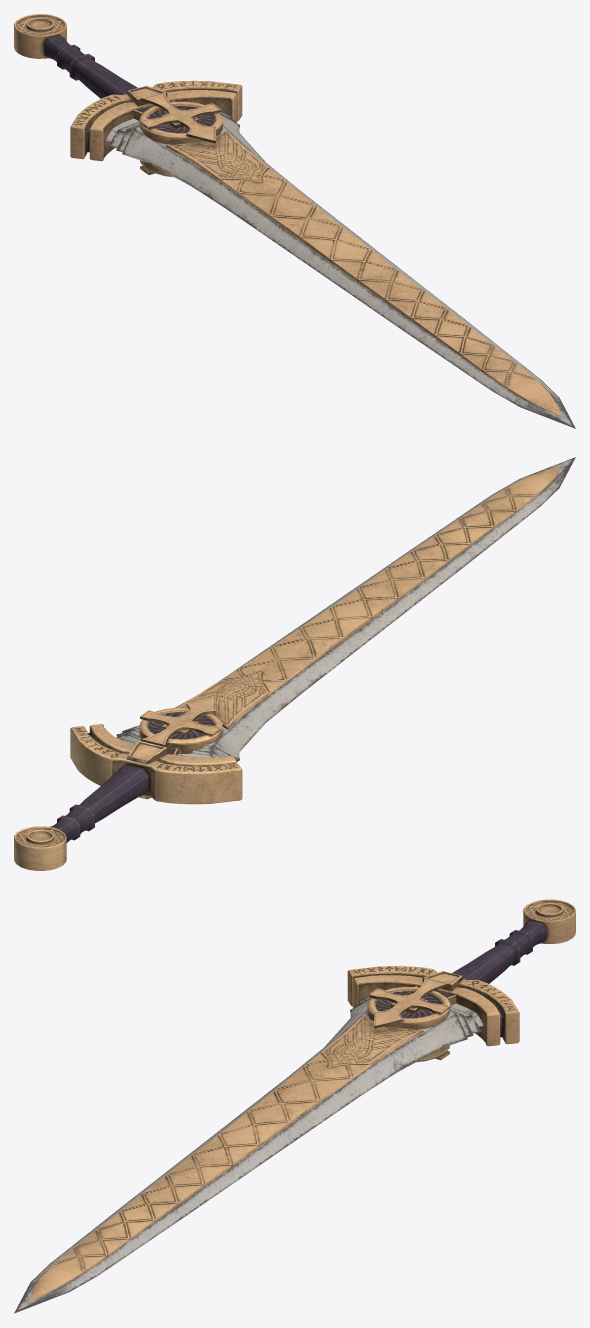
Rendered from hollowfang.glb.
3 renders of one model, top to bottom at view 1: azimuth 30°, elevation 25°; view 2: azimuth 150°, elevation 25°; view 3: azimuth 330°, elevation 25°, orthographic.
Visible parts, largest first — view 1: Plate_low, Sword_low, Handle02_low, Handle01_low, CylinderBig_low, Cross_low, CylinderSmall_low; view 2: Plate_low, Sword_low, Handle02_low, Handle01_low, CylinderSmall_low, CylinderBig_low, Cross_low, Handle03_low; view 3: Plate_low, Sword_low, Handle02_low, Handle01_low, CylinderBig_low, Cross_low, CylinderSmall_low.
Boxes of the visible parts, x1=… form: Plate_low: x1=166, y1=130, x2=561, y2=416; Sword_low: x1=106, y1=111, x2=575, y2=428; Handle02_low: x1=70, y1=80, x2=242, y2=161; Handle01_low: x1=43, y1=35, x2=137, y2=98; CylinderBig_low: x1=139, y1=101, x2=222, y2=177; Cross_low: x1=140, y1=92, x2=221, y2=174; CylinderSmall_low: x1=14, y1=14, x2=66, y2=58; Plate_low: x1=177, y1=466, x2=561, y2=729; Sword_low: x1=116, y1=457, x2=575, y2=761; Handle02_low: x1=70, y1=724, x2=242, y2=804; Handle01_low: x1=49, y1=764, x2=149, y2=842; CylinderSmall_low: x1=14, y1=826, x2=66, y2=870; CylinderBig_low: x1=139, y1=707, x2=222, y2=753; Cross_low: x1=140, y1=696, x2=221, y2=746; Handle03_low: x1=127, y1=740, x2=167, y2=799; Plate_low: x1=28, y1=1015, x2=423, y2=1301; Sword_low: x1=14, y1=996, x2=483, y2=1313; Handle02_low: x1=347, y1=966, x2=519, y2=1046; Handle01_low: x1=452, y1=920, x2=546, y2=983; CylinderBig_low: x1=367, y1=986, x2=450, y2=1062; Cross_low: x1=368, y1=977, x2=449, y2=1060; CylinderSmall_low: x1=523, y1=899, x2=575, y2=943.
Bounding box in the file's own units: 0.2067 × 0.0559 × 1.15.
1 material, 1 textured.
